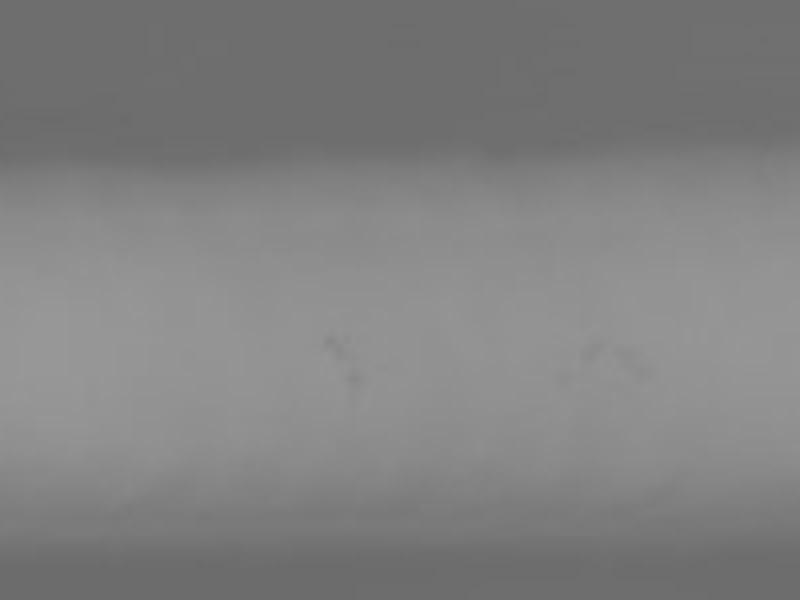defect: (574, 340, 605, 368), (326, 333, 345, 358), (345, 371, 366, 389)
